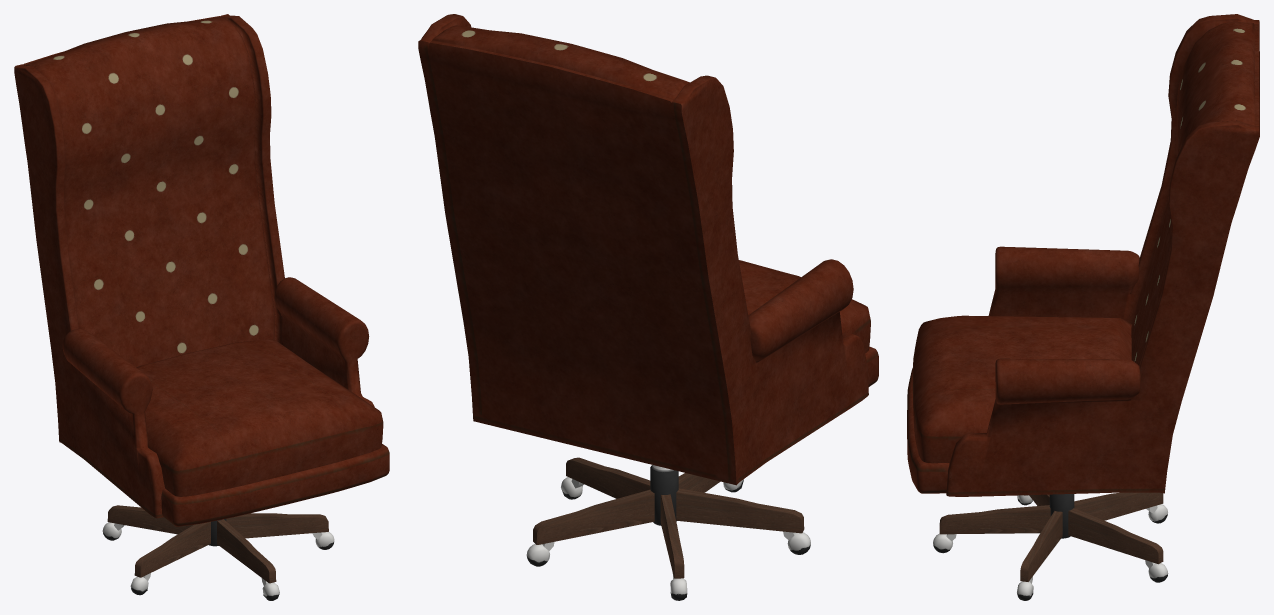
Rendered from ChairRetro02.FBX.
3 views of the same model, side by side, from view 1: azimuth 30°, elevation 25°; view 2: azimuth 150°, elevation 25°; view 3: azimuth 270°, elevation 25° (orthographic). The views are drawn at different scales.
Parts seen in each view (by area): view 1: ChairRetro02; view 2: ChairRetro02; view 3: ChairRetro02.
Boxes of the visible parts, left/top/right/bottom form: ChairRetro02: left=14, top=14, right=389, bottom=600; ChairRetro02: left=418, top=14, right=878, bottom=600; ChairRetro02: left=907, top=14, right=1259, bottom=600.
Size of the model in its own units: 0.7706 by 1.37 by 0.8938.
